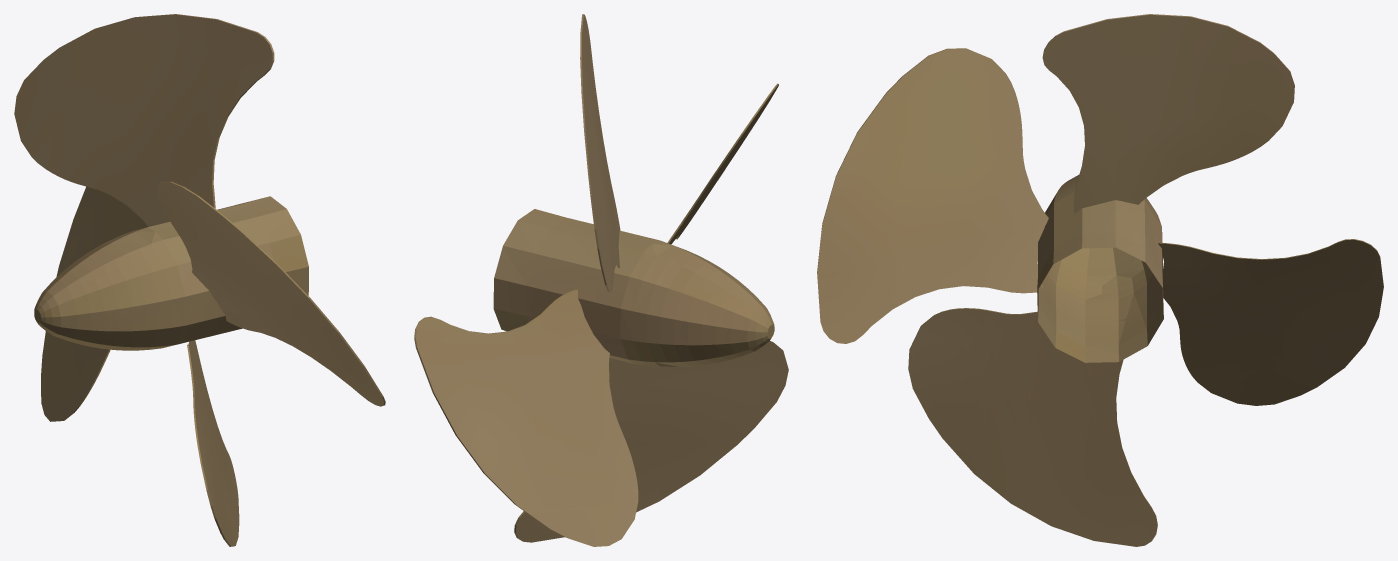
File: frigate_propeller.gltf
3 renders of one model, left to right at view 1: azimuth 30°, elevation 25°; view 2: azimuth 150°, elevation 25°; view 3: azimuth 270°, elevation 25°, orthographic. The views are drawn at different scales.
Visible parts, largest first — view 1: bawah; view 2: bawah; view 3: bawah.
Boxes of the visible parts, x1,y1,x2,y2 form: bawah: (14, 14, 385, 546); bawah: (414, 14, 788, 546); bawah: (817, 14, 1383, 546).
Bounding box in the file's own units: 1.68 × 3.34 × 3.34.
1 material, 1 textured.
